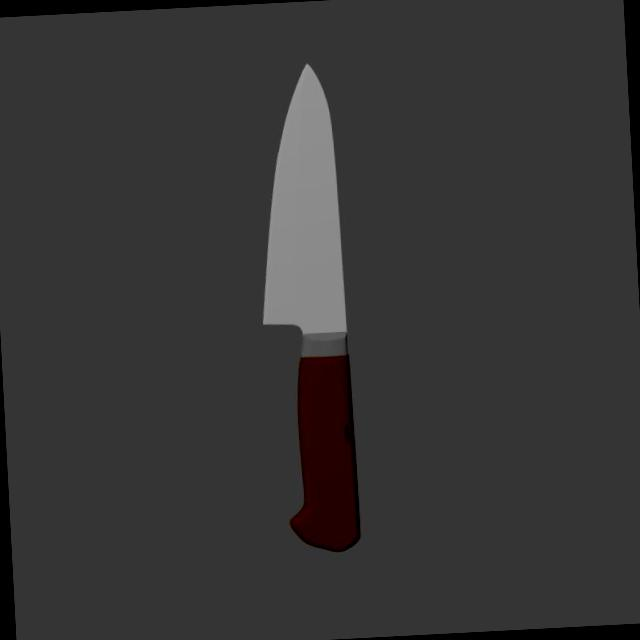knife: (280, 352, 362, 553)
